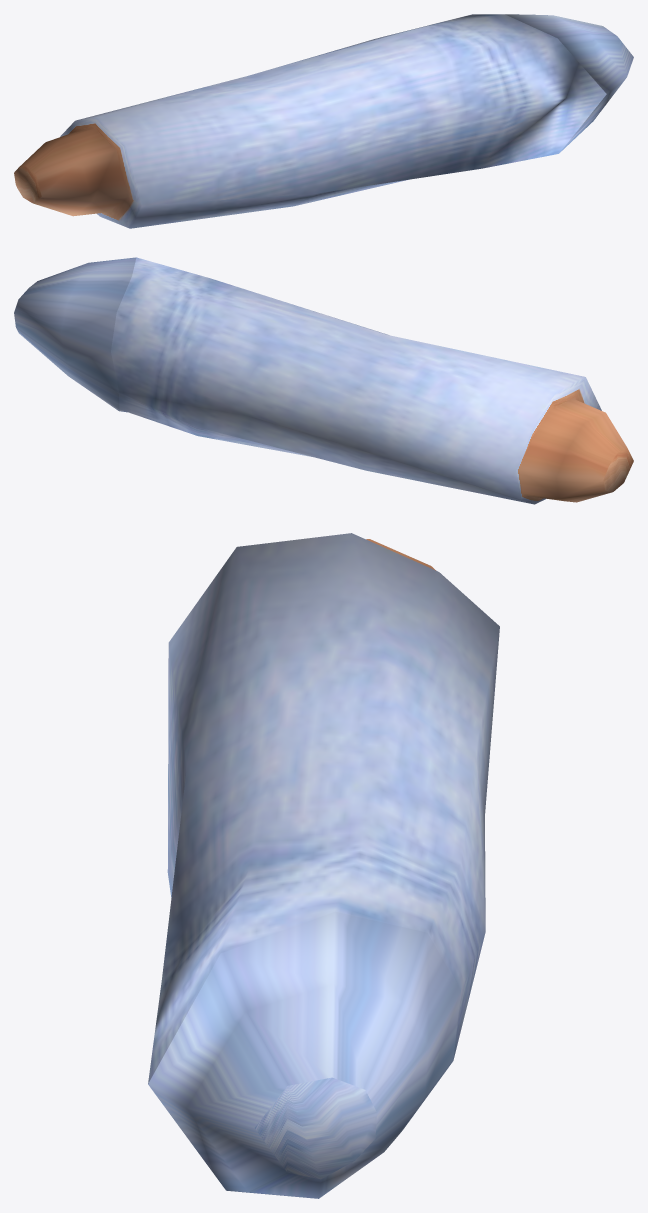
File: LeftArm2.dae
3 views of the same model, one above another, from view 1: azimuth 30°, elevation 25°; view 2: azimuth 150°, elevation 25°; view 3: azimuth 270°, elevation 25° (orthographic). The views are drawn at different scales.
Visible parts, largest first — view 1: LeftArm2; view 2: LeftArm2; view 3: LeftArm2.
Boxes of the visible parts, bbox=[...] form: LeftArm2: bbox=[14, 14, 633, 228]; LeftArm2: bbox=[14, 257, 633, 504]; LeftArm2: bbox=[148, 533, 499, 1198].
Size of the model in its own units: 0.2915 by 0.077 by 0.0647.
Materials: 1 (1 with a texture image).
